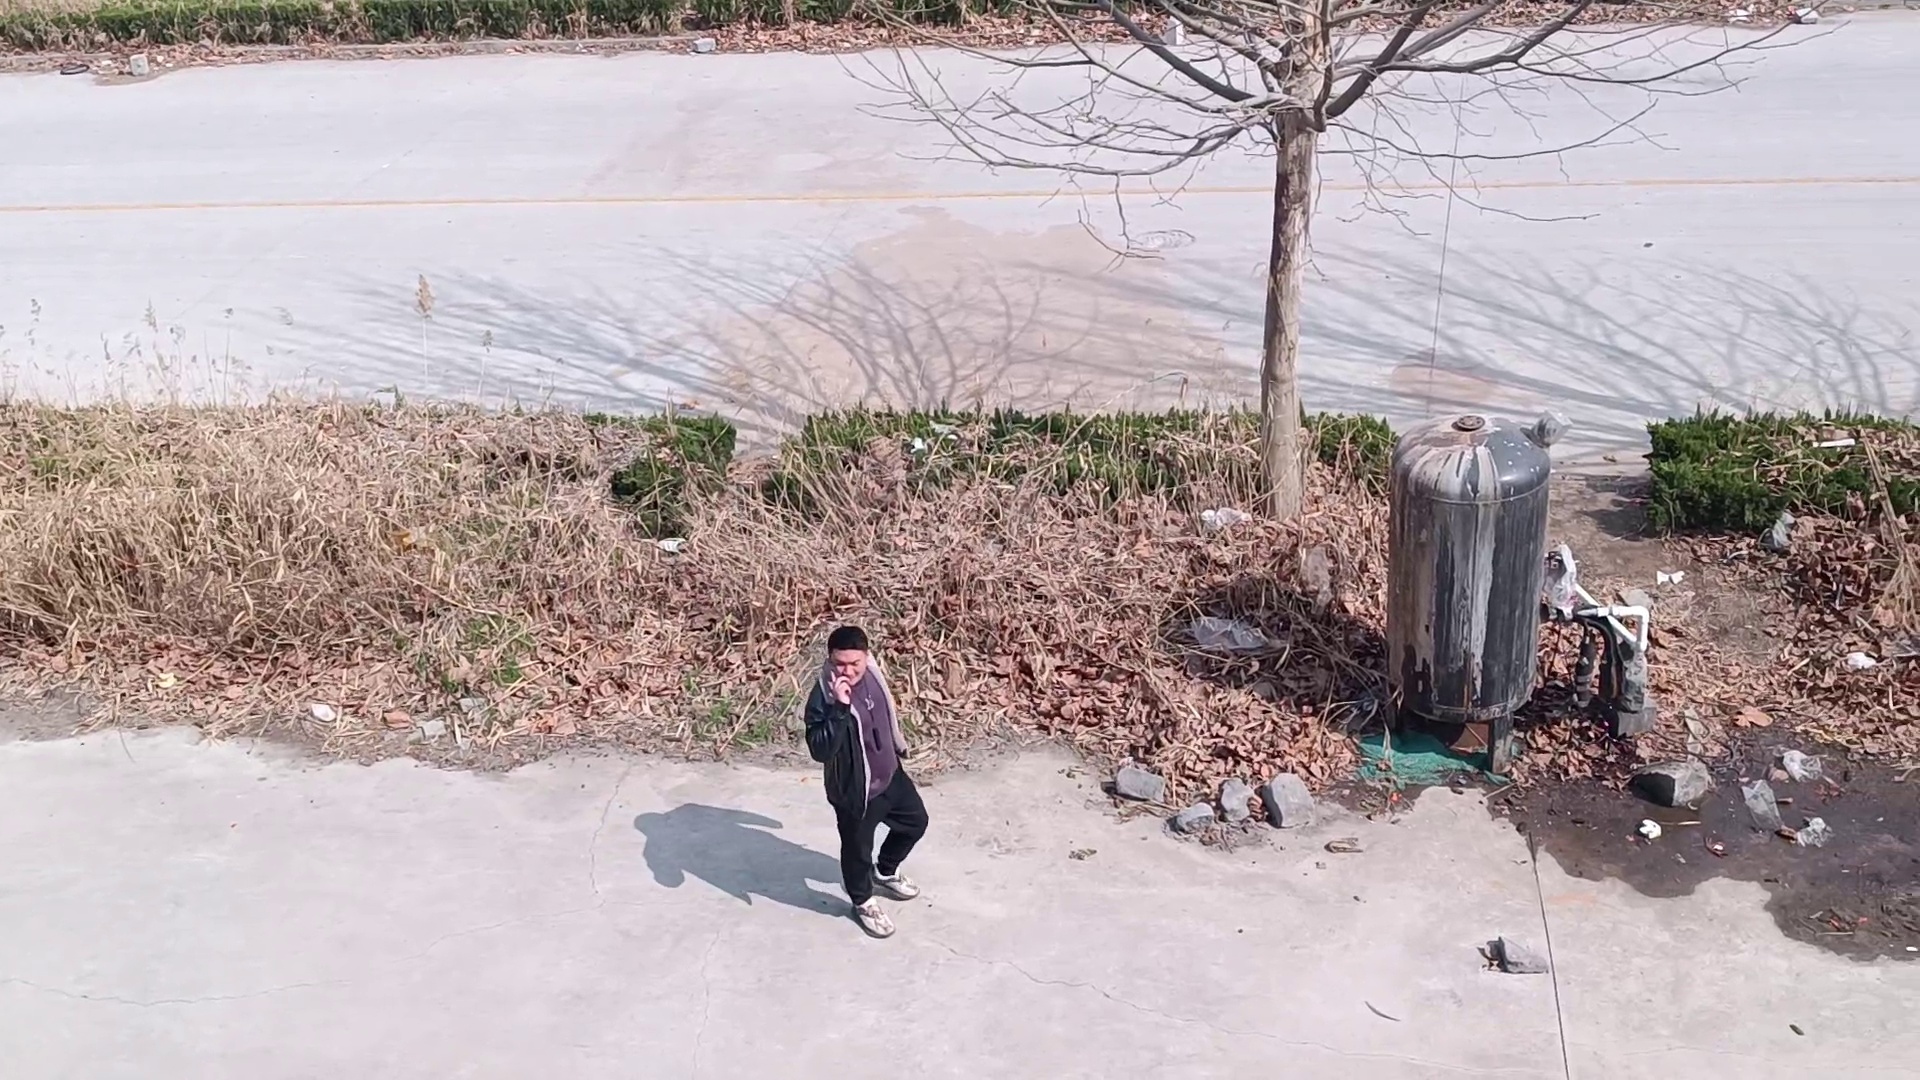phone: (811, 615, 876, 695)
